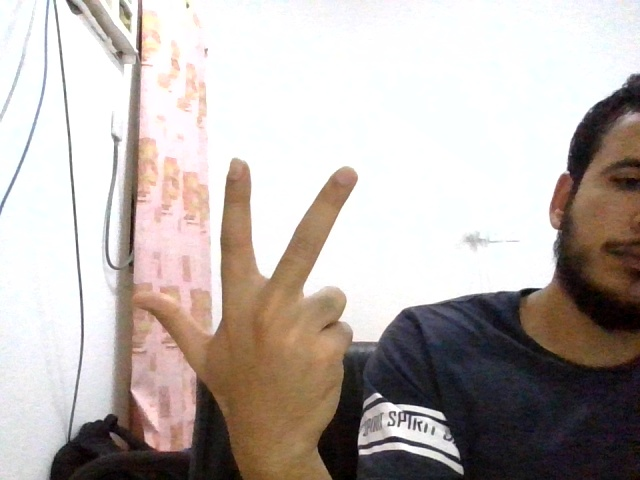Three: (133, 157, 361, 444)
